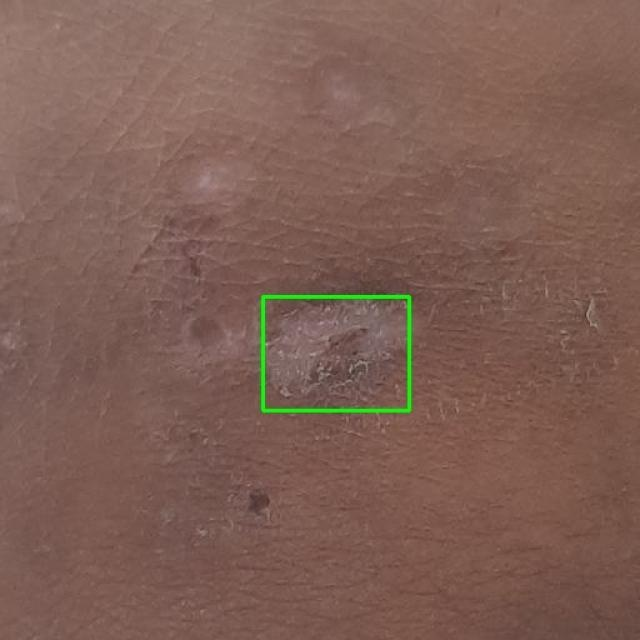Eczema: (262, 296, 409, 410)
